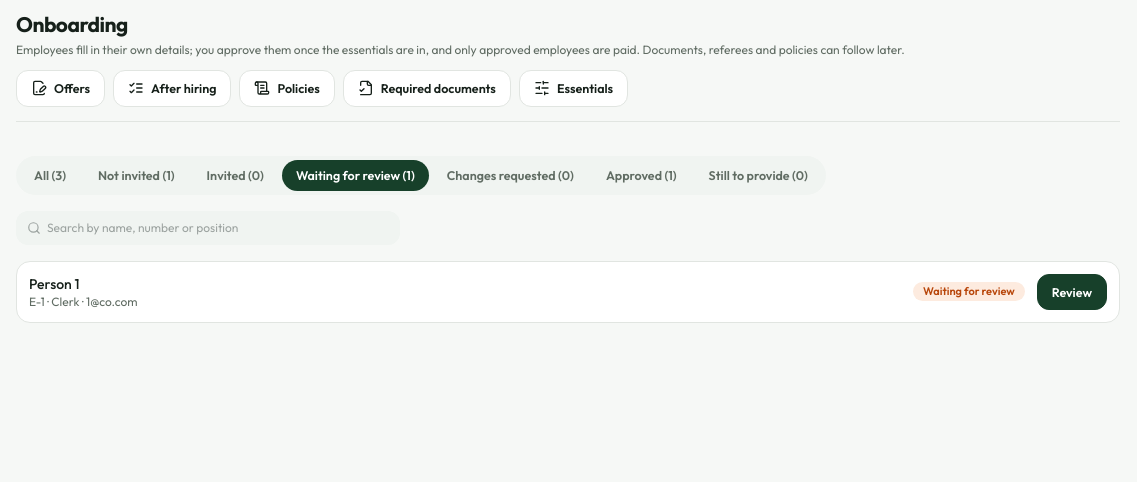
Test: OnboardingReview › opens on the records waiting for review, with a count for every step
Expected: the text "Person 1" is shown, x1=29 y1=275 x2=80 y2=293
Expected: the text "Person 2" is not shown
What coordinates should you click on to do the following:
click the button "All (3)"
I would click on:
 (50, 175)
Its box is x1=20 y1=160 x2=80 y2=191.
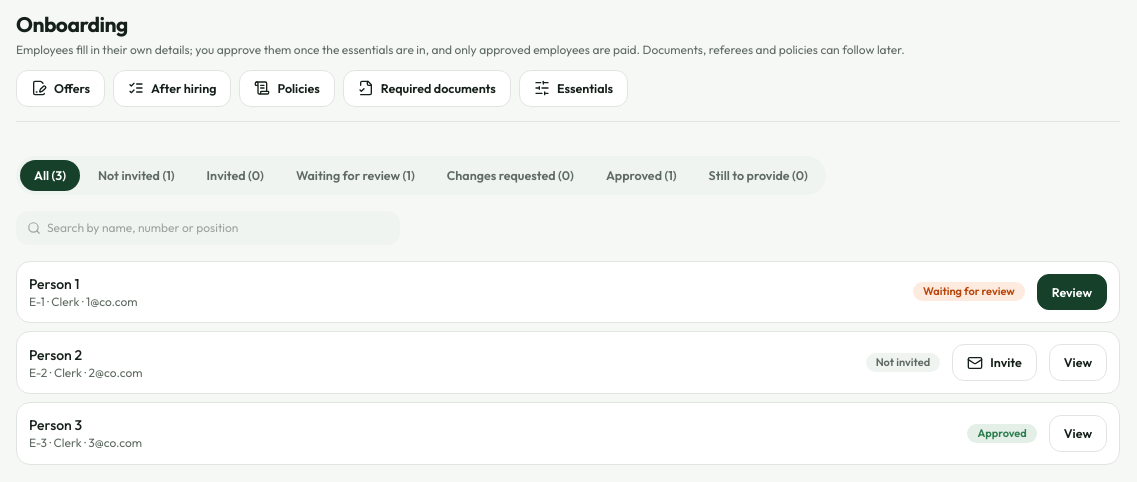
Expected: the text "Person 2" is shown, x1=29 y1=346 x2=82 y2=364
Expected: the text "Person 3" is shown, x1=29 y1=416 x2=82 y2=434
